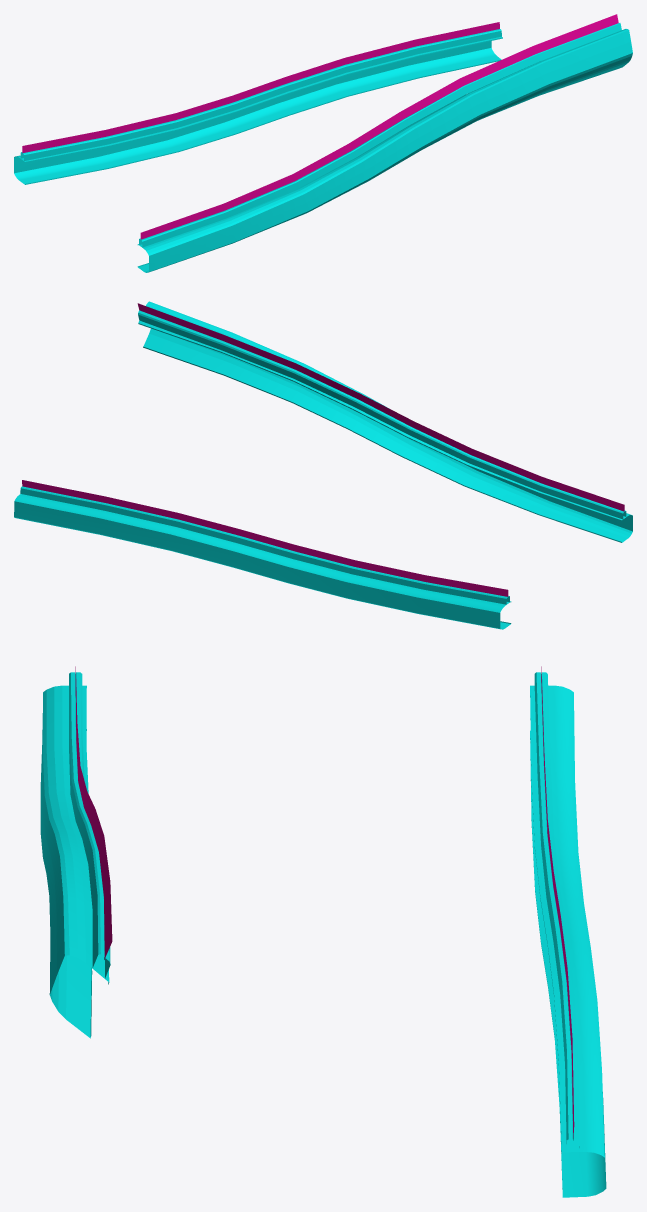
The model's file is Mur_Transition_Gauche.fbx.
The picture shows the model from 3 angles, top to bottom: view 1: azimuth 30°, elevation 25°; view 2: azimuth 150°, elevation 25°; view 3: azimuth 270°, elevation 25°; orthographic projection. The views are drawn at different scales.
Visible parts, largest first — view 1: polySurface1032; view 2: polySurface1032; view 3: polySurface1032.
Boxes of the visible parts, x1,y1,x2,y2 form: polySurface1032: [14, 14, 632, 272]; polySurface1032: [14, 301, 632, 629]; polySurface1032: [40, 666, 606, 1197].
Bounding box in the file's own units: 31.22 × 8.34 × 15.98.
